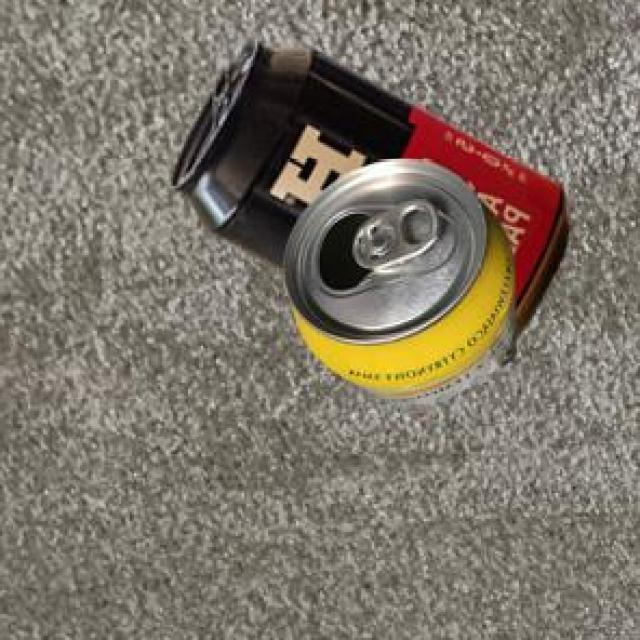logam: (168, 44, 565, 343), (280, 163, 514, 421)
